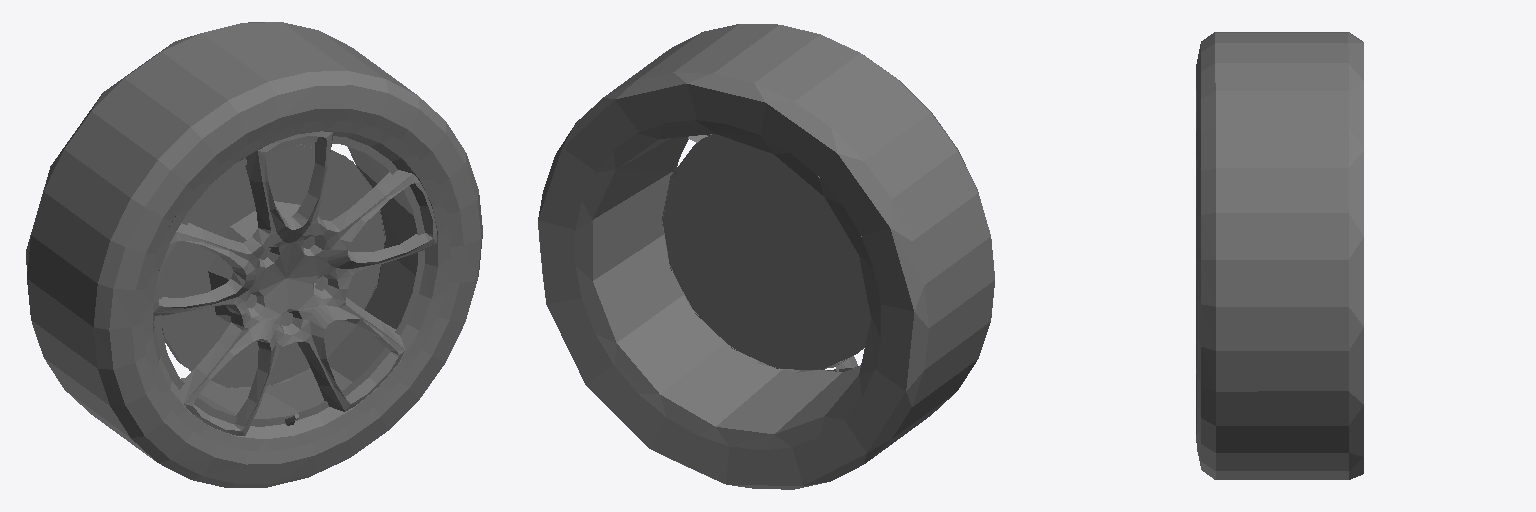
Rendered from llanta_porsche.obj.
3 renders of one model, left to right at view 1: azimuth 30°, elevation 25°; view 2: azimuth 150°, elevation 25°; view 3: azimuth 270°, elevation 25°, orthographic.
Visible parts, largest first — view 1: part_027; view 2: part_027; view 3: part_027.
Part boxes in pixels (left/top/right/bottom): part_027: left=26, top=22, right=482, bottom=487; part_027: left=538, top=24, right=994, bottom=489; part_027: left=1196, top=32, right=1363, bottom=479.
Size of the model in its own units: 5.74 by 5.71 by 2.14.